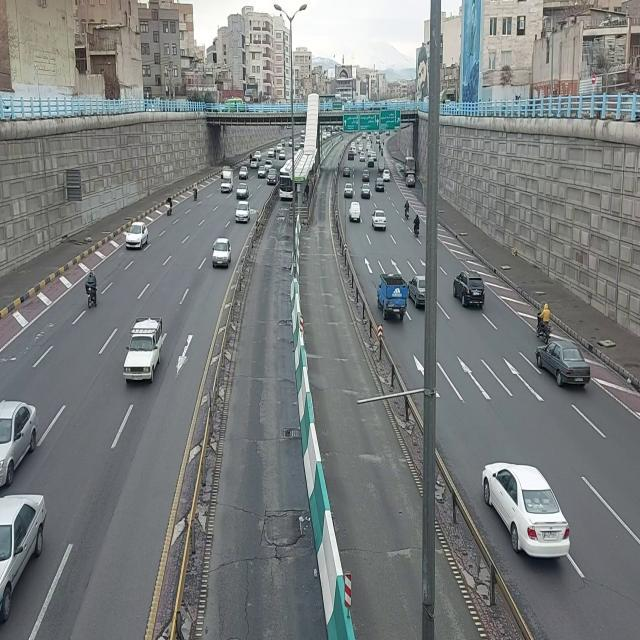Car: (479, 456, 575, 564), (536, 334, 594, 392), (451, 265, 489, 315), (126, 220, 149, 254), (211, 237, 231, 269), (235, 202, 251, 225), (371, 209, 387, 230), (236, 182, 250, 201), (266, 167, 278, 185), (374, 177, 385, 193), (239, 166, 250, 181), (360, 183, 370, 199), (382, 168, 392, 184), (344, 183, 354, 199), (406, 173, 416, 189), (258, 165, 268, 180), (361, 168, 371, 182), (342, 165, 352, 179), (250, 156, 258, 168), (278, 150, 286, 162), (367, 156, 374, 168), (348, 150, 355, 162), (267, 148, 273, 160), (359, 153, 365, 163), (371, 152, 378, 160)
Motorcycle: (535, 298, 557, 348), (85, 267, 99, 313), (166, 196, 174, 218), (414, 214, 421, 239), (404, 200, 410, 222), (193, 182, 198, 202), (274, 148, 278, 159), (381, 147, 385, 157), (379, 141, 382, 151)
Pickup: (124, 314, 165, 387), (378, 269, 409, 329), (221, 170, 235, 194), (348, 201, 362, 223), (378, 154, 384, 174)
